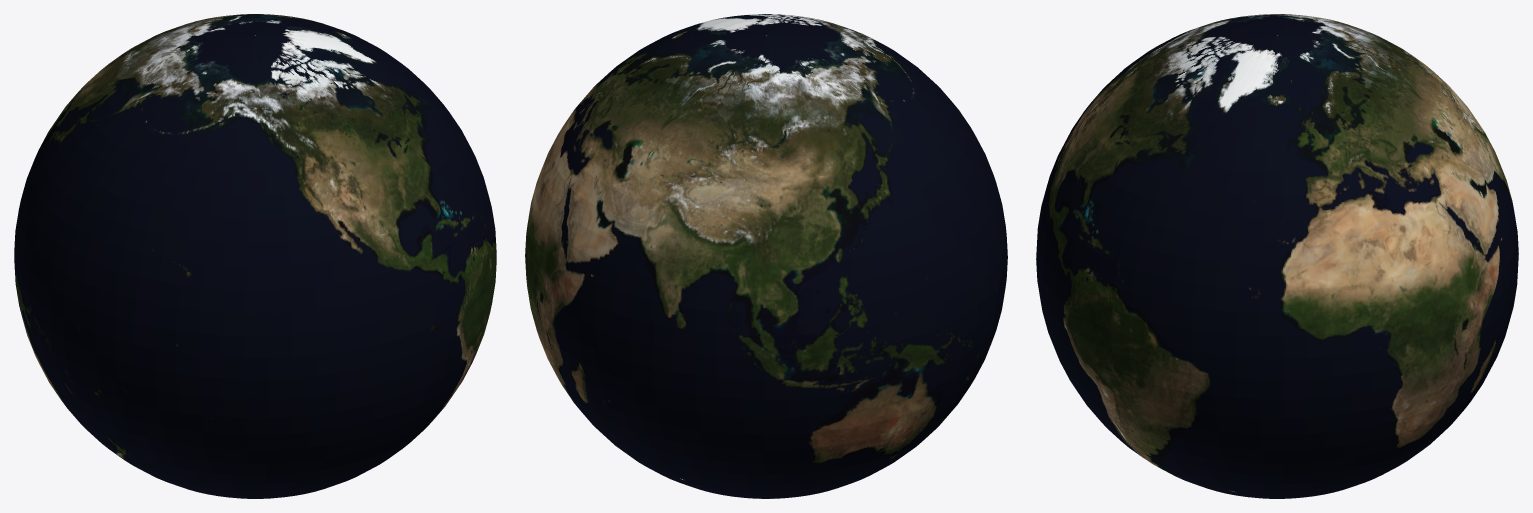
File: Earth.fbx
The picture shows the model from 3 angles, left to right: view 1: azimuth 30°, elevation 25°; view 2: azimuth 150°, elevation 25°; view 3: azimuth 270°, elevation 25°; orthographic projection.
Visible parts, largest first — view 1: Sphere; view 2: Sphere; view 3: Sphere.
Boxes of the visible parts, <box> form: Sphere: <box>14,14,496,498</box>; Sphere: <box>525,14,1007,498</box>; Sphere: <box>1036,14,1518,498</box>.
Size of the model in its own units: 197 by 200 by 197.
